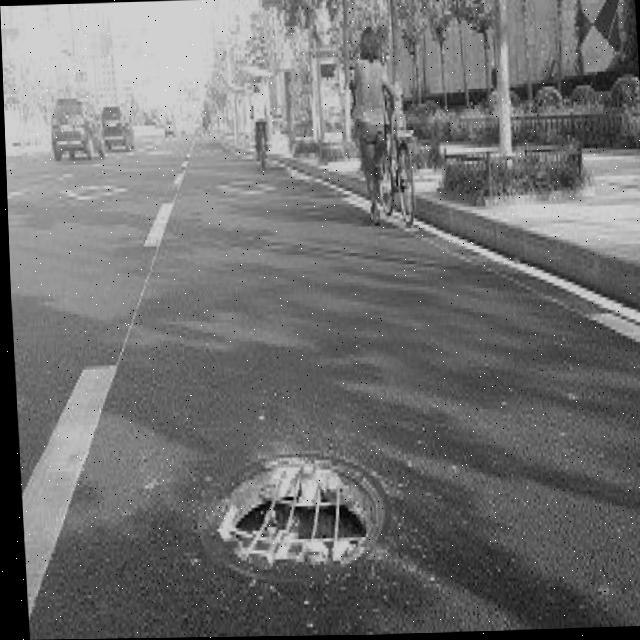manhole: (191, 446, 384, 582)
